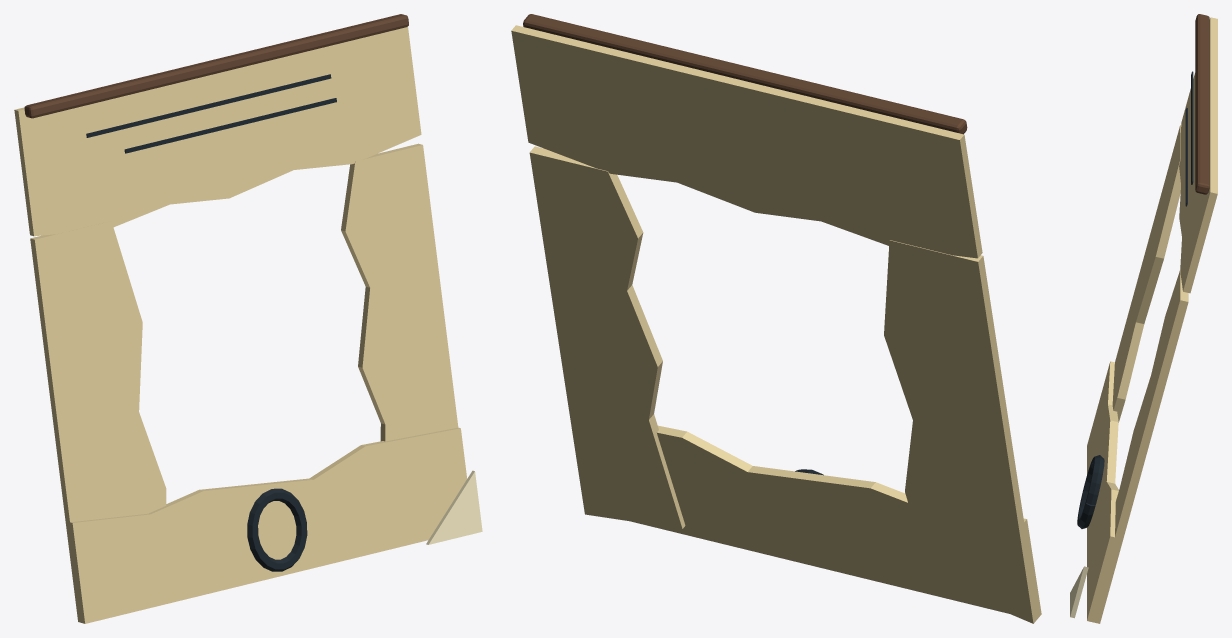
3 views of the same model, side by side, from view 1: azimuth 30°, elevation 25°; view 2: azimuth 150°, elevation 25°; view 3: azimuth 270°, elevation 25° (orthographic). The views are drawn at different scales.
Parts seen in each view (by area): view 1: C3-05_paper, C3-05_brown, C3-05_ink, C3-05_pale; view 2: C3-05_paper, C3-05_brown; view 3: C3-05_paper, C3-05_brown, C3-05_ink, C3-05_pale.
Part boxes in pixels (x1,y1,x2,y2): C3-05_paper: (14, 26, 467, 623); C3-05_brown: (24, 14, 408, 118); C3-05_ink: (86, 74, 336, 571); C3-05_pale: (426, 470, 482, 544); C3-05_paper: (511, 25, 1041, 623); C3-05_brown: (523, 14, 967, 134); C3-05_paper: (1087, 17, 1217, 623); C3-05_brown: (1195, 14, 1209, 194); C3-05_ink: (1077, 71, 1193, 528); C3-05_pale: (1070, 566, 1088, 618).
Bounding box in the file's own units: 0.43 × 0.5018 × 0.1533.
